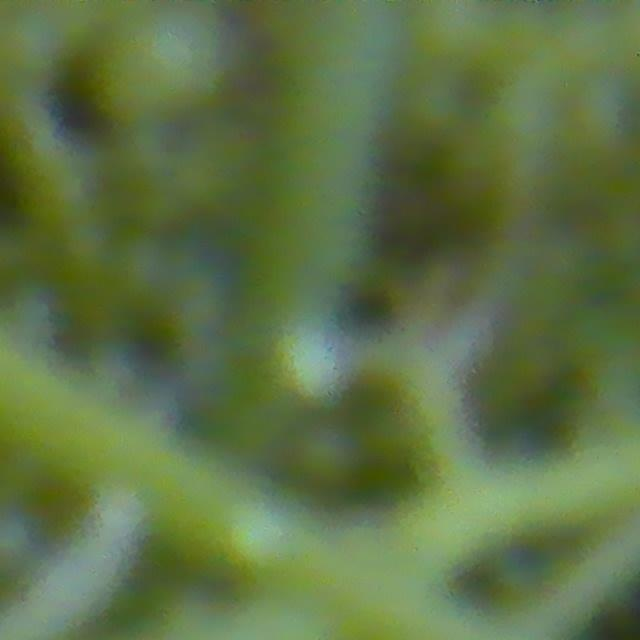SeaGrape: (104, 0, 229, 120)
